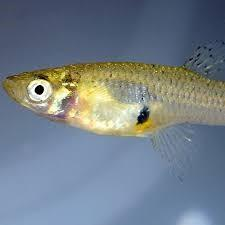Mosquito Fish: (0, 53, 225, 151)
